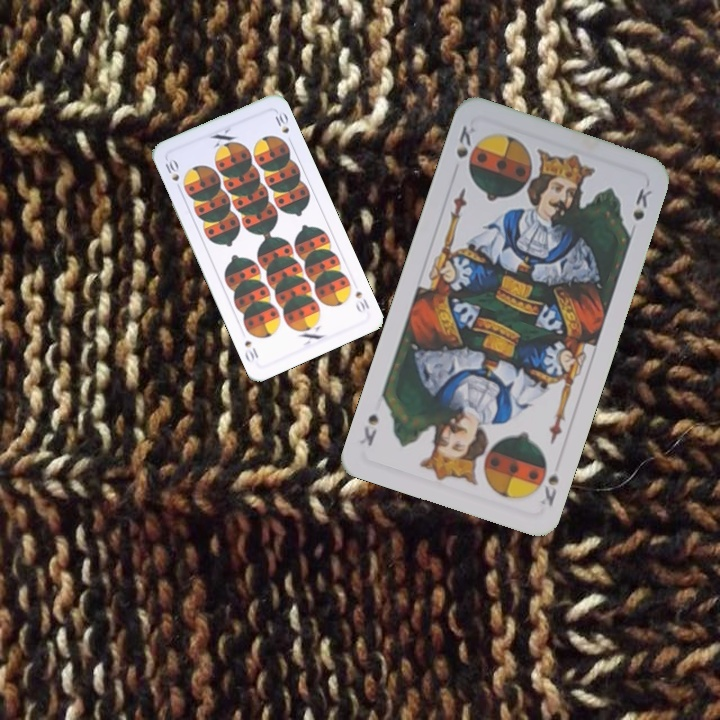S10: (161, 155, 182, 184), (351, 287, 372, 315)
SK: (531, 454, 562, 509), (452, 121, 478, 161)
